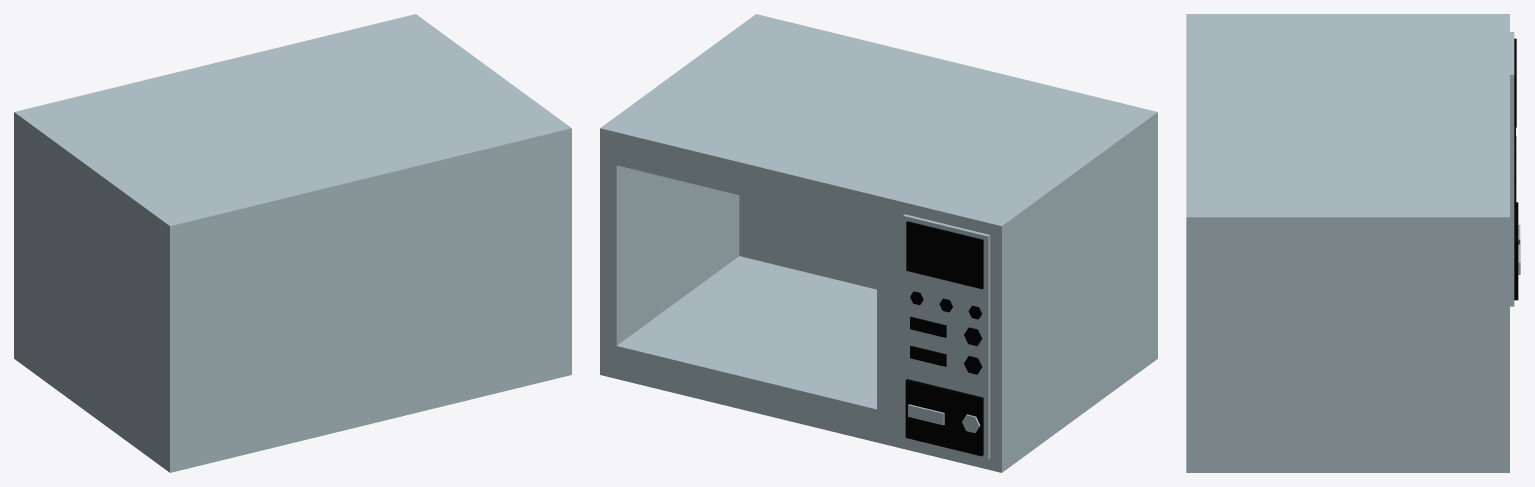
Rendered from microwave.fbx.
The picture shows the model from 3 angles, left to right: view 1: azimuth 30°, elevation 25°; view 2: azimuth 150°, elevation 25°; view 3: azimuth 270°, elevation 25°; orthographic projection. The views are drawn at different scales.
Visible parts, largest first — view 1: microwoven; view 2: microwoven; view 3: microwoven.
Part boxes in pixels (x1,y1,x2,y2): microwoven: [14, 14, 571, 472]; microwoven: [600, 14, 1157, 472]; microwoven: [1186, 14, 1520, 472].
Bounding box in the file's own units: 0.7314 × 0.4292 × 0.508.
